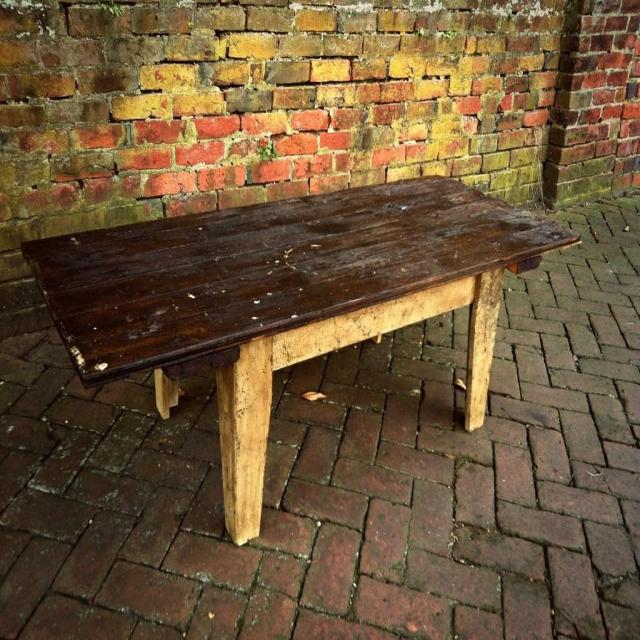table: (64, 160, 562, 506)
